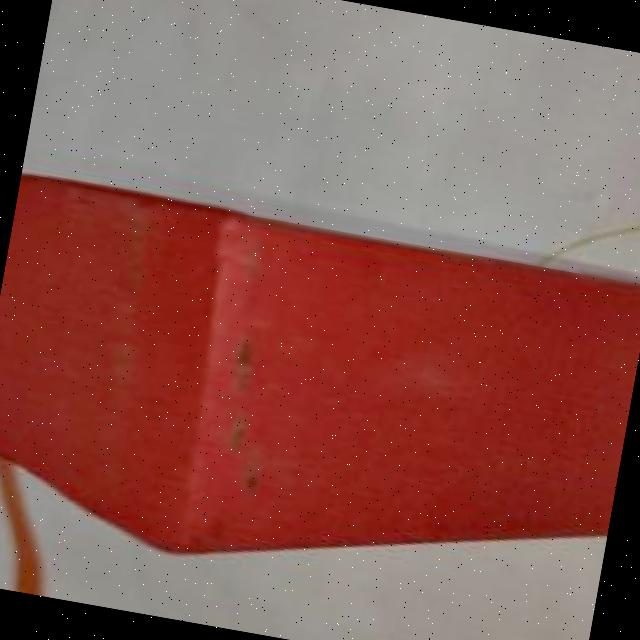redbox: (0, 170, 640, 626)
